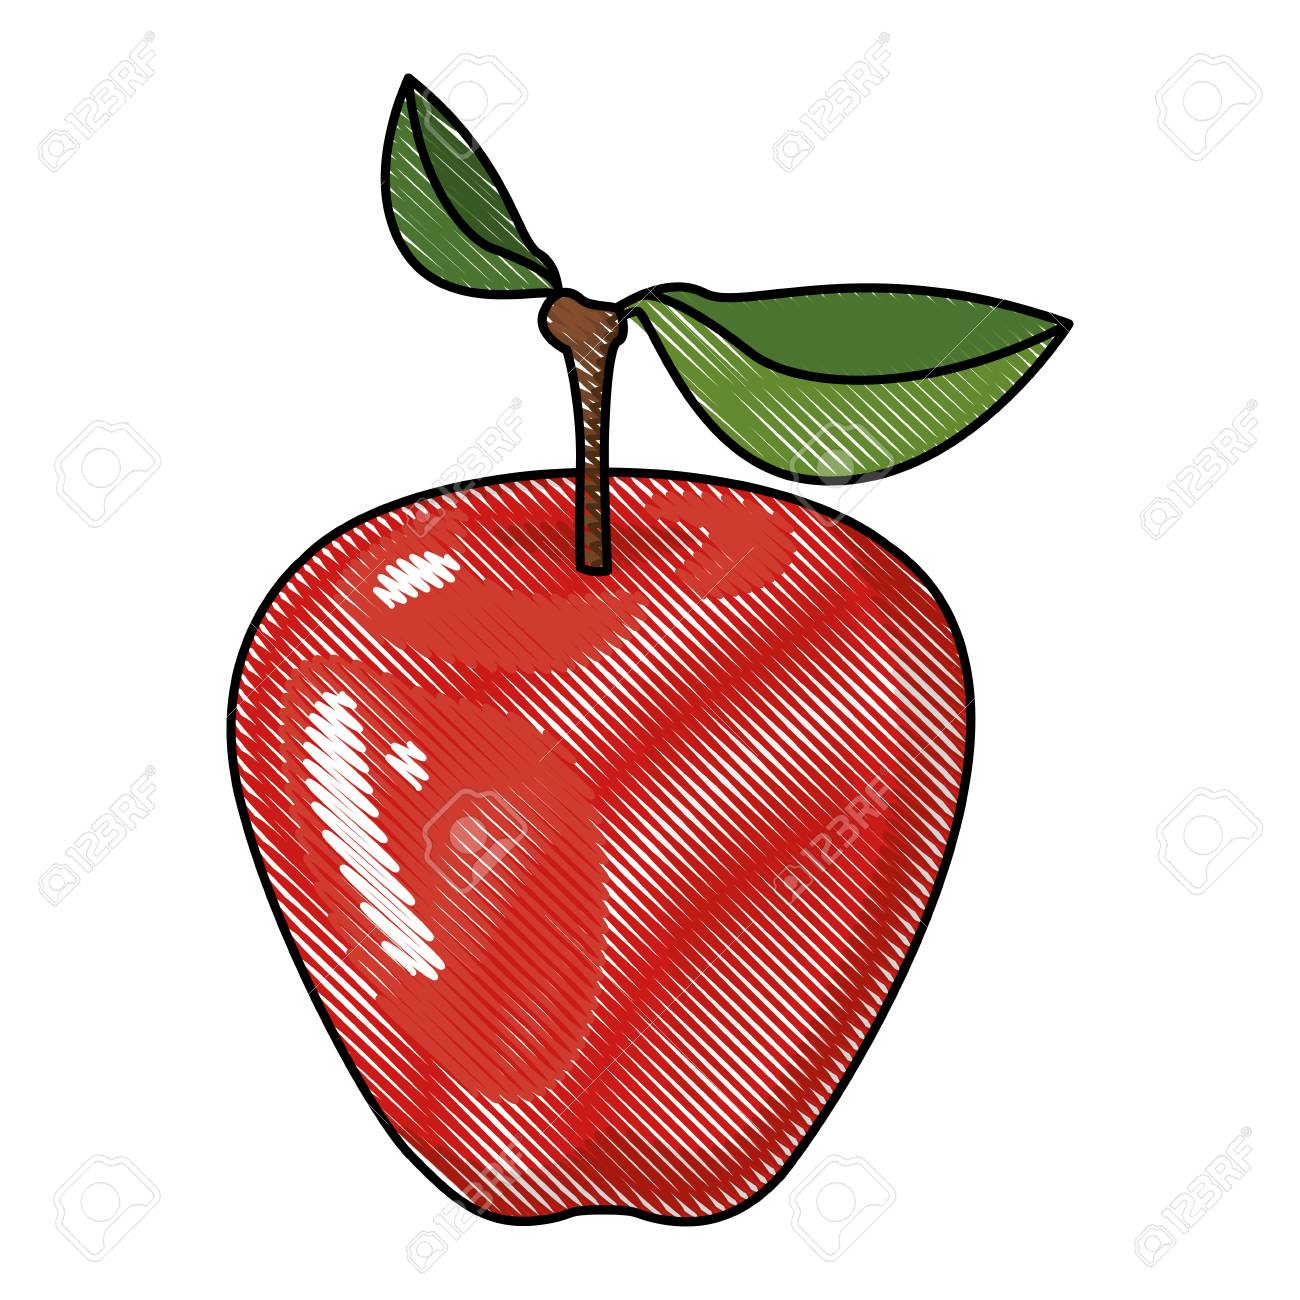apple: (242, 460, 963, 1229)
